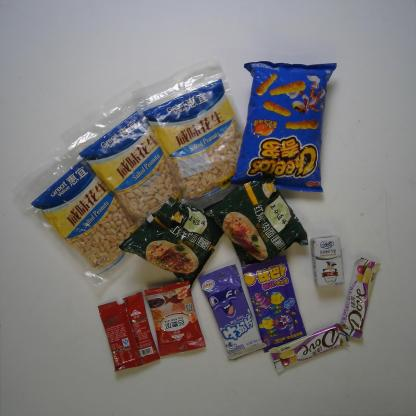Candy: (198, 264, 267, 362), (242, 255, 308, 353)
Chocolate: (268, 323, 350, 374), (338, 256, 382, 341)
Dried Fruit: (55, 81, 183, 226), (15, 147, 139, 288), (132, 56, 244, 206)
Instant Drink: (97, 292, 160, 373), (144, 280, 206, 356)
Instant Noodles: (118, 195, 224, 290), (203, 173, 310, 267)
Milk: (310, 235, 347, 288)
Puffed Food: (228, 59, 337, 195)
